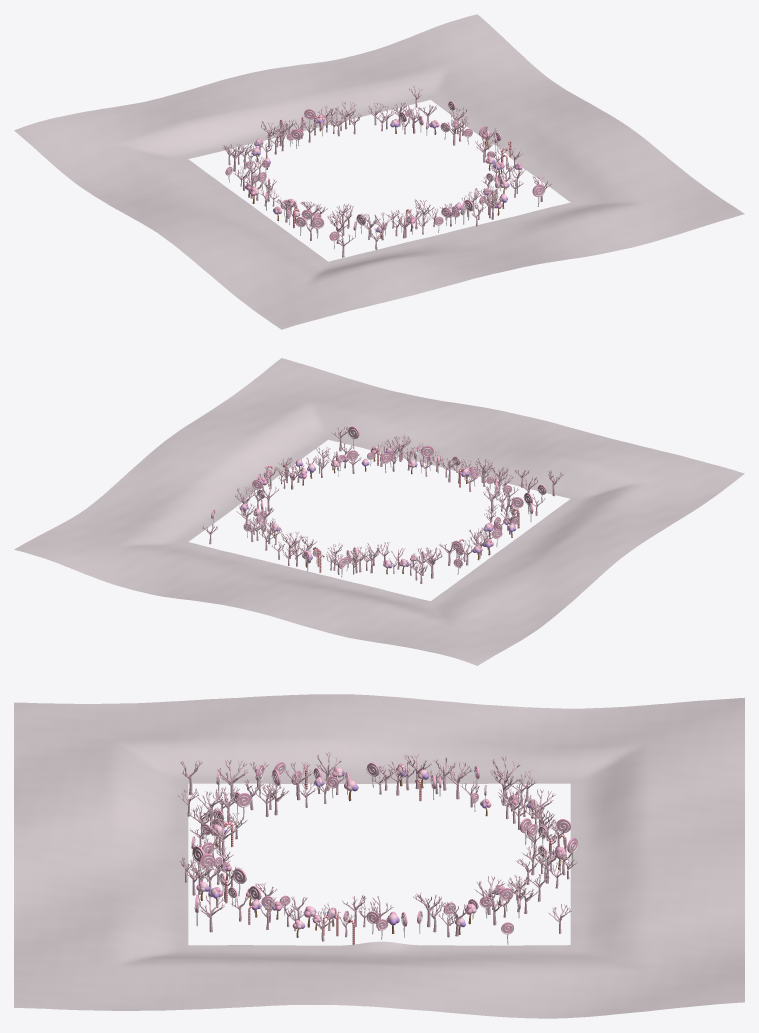
The model's file is CandyForest_Background.fbx.
3 views of the same model, one above another, from view 1: azimuth 30°, elevation 25°; view 2: azimuth 150°, elevation 25°; view 3: azimuth 270°, elevation 25° (orthographic). The views are drawn at different scales.
Visible parts, largest first — view 1: CAN_Terrain_Decor; view 2: CAN_Terrain_Decor; view 3: CAN_Terrain_Decor.
Part boxes in pixels (box(x1,y1,x2,y2)): CAN_Terrain_Decor: box(14, 14, 744, 329); CAN_Terrain_Decor: box(14, 358, 744, 665); CAN_Terrain_Decor: box(14, 694, 744, 1018).
Size of the model in its own units: 650 by 39.73 by 650.
